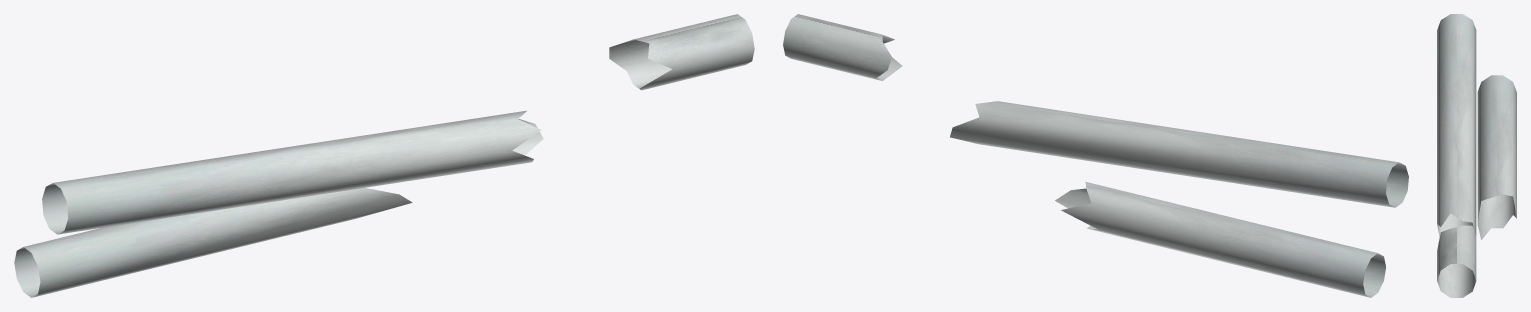
The model's file is light_03.fbx.
3 renders of one model, left to right at view 1: azimuth 30°, elevation 25°; view 2: azimuth 150°, elevation 25°; view 3: azimuth 270°, elevation 25°, orthographic. The views are drawn at different scales.
Visible parts, largest first — view 1: Object015; view 2: Object015; view 3: Object015.
Boxes of the visible parts, x1,y1,x2,y2 form: Object015: (14,14,754,297); Object015: (783,14,1408,297); Object015: (1437,14,1516,297).
Size of the model in its own units: 234 by 42.15 by 31.17.
